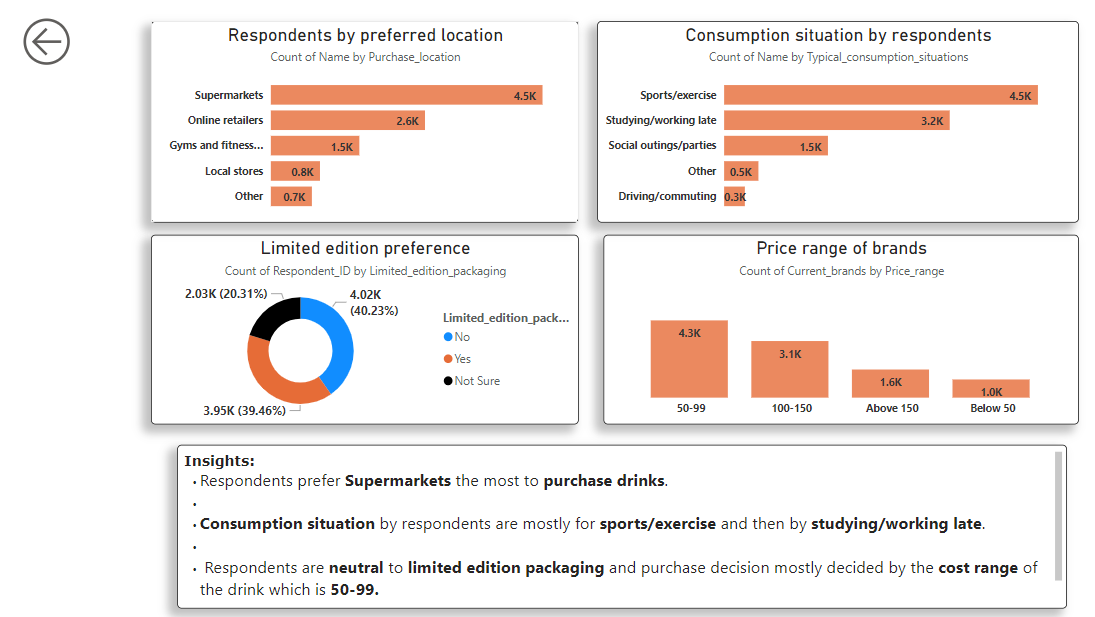

What the dashboard file says about the page in this screenshot:
{"tool":"powerbi","page":{"name":"Purchase behaviour","canvas":[1280,720],"ordinal":4},"visuals":[{"type":"barChart","title":"Respondents by preferred location","fields":{"Category":["fact_survey_responses.Purchase_location"],"Y":["CountNonNull(dim_repondents.Name)"]},"box":[177.1,28.6,488.6,230],"z":0},{"type":"barChart","title":"Consumption situation by respondents","fields":{"Category":["fact_survey_responses.Typical_consumption_situations"],"Y":["CountNonNull(dim_repondents.Name)"]},"box":[687.1,28.6,550,230],"z":1000},{"type":"donutChart","title":"Limited edition preference","fields":{"Category":["fact_survey_responses.Limited_edition_packaging"],"Y":["CountNonNull(dim_repondents.Respondent_ID)"]},"box":[177.1,272.9,488.6,217.1],"z":2000},{"type":"columnChart","title":"Price range of brands","fields":{"Category":["fact_survey_responses.Price_range"],"Y":["CountNonNull(fact_survey_responses.Current_brands)"]},"box":[694.3,272.9,542.9,217.1],"z":3000},{"type":"textbox","box":[207.1,512.9,1017.1,187.1],"z":4000},{"type":"actionButton","box":[24.3,18.6,97.1,67.1],"z":5000}]}

Visuals, with their boxes in screenshot pixels (x1, y1, x2, y2), scaled from the page's 1280x720 canvas onto the 1095x617 screenshot:
"Respondents by preferred location" barChart: [152,25,569,222]
"Consumption situation by respondents" barChart: [588,25,1058,222]
"Limited edition preference" donutChart: [152,234,569,420]
"Price range of brands" columnChart: [594,234,1058,420]
textbox: [177,440,1047,600]
actionButton: [21,16,104,73]
